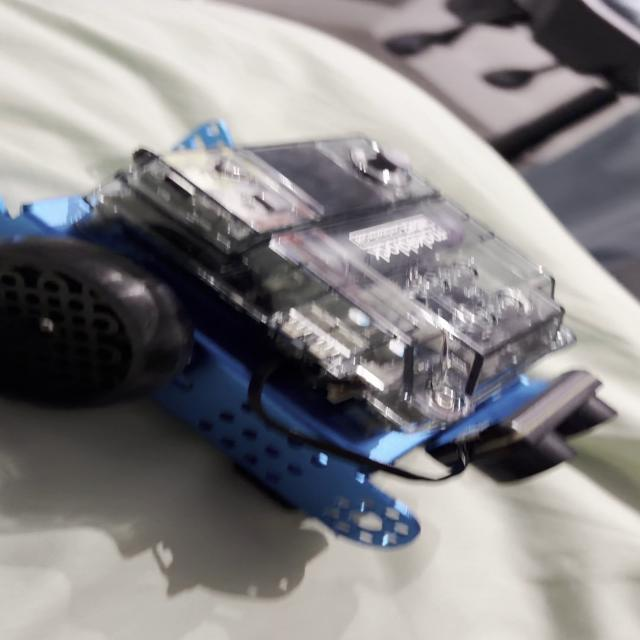mbot-detection: (0, 112, 639, 560)
